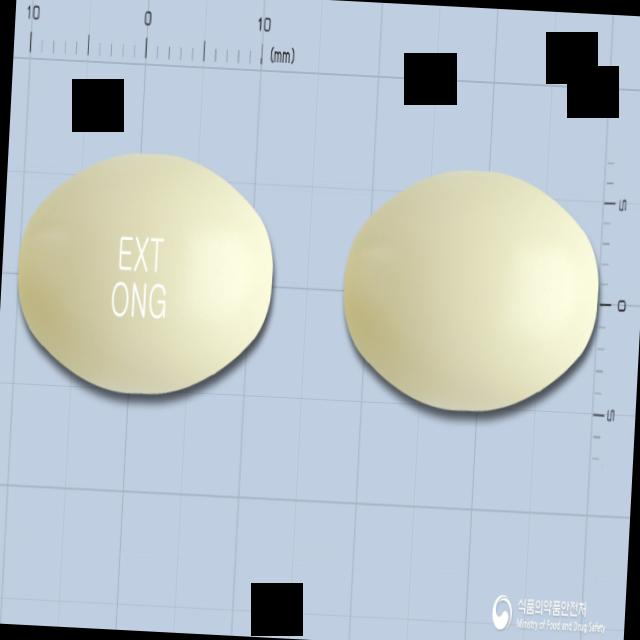ONG Vaginal Soft Cap: (13, 146, 279, 404)
